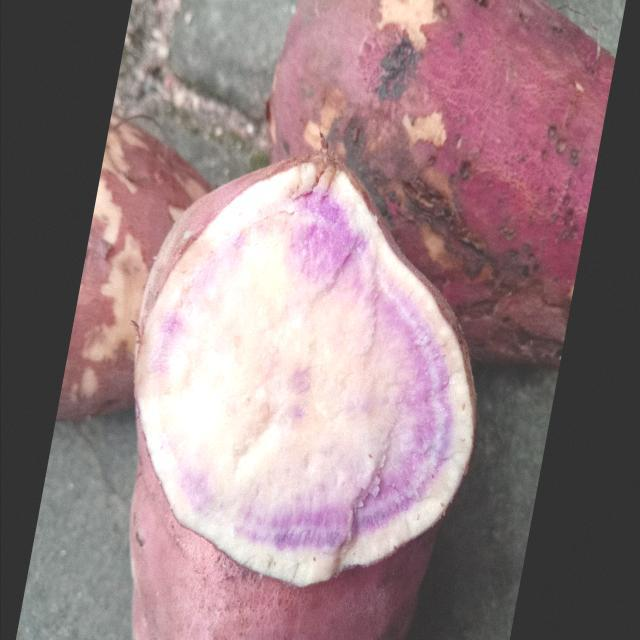Healthy Sweet Potato: (134, 157, 474, 587)
